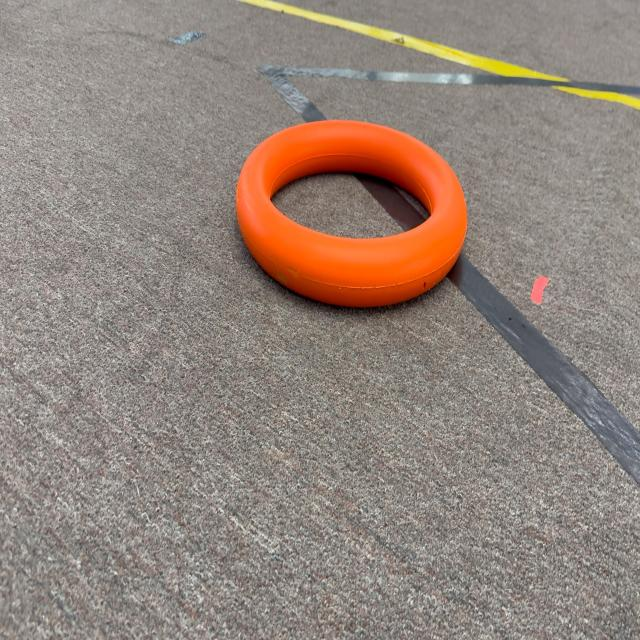note: (231, 108, 474, 314)
